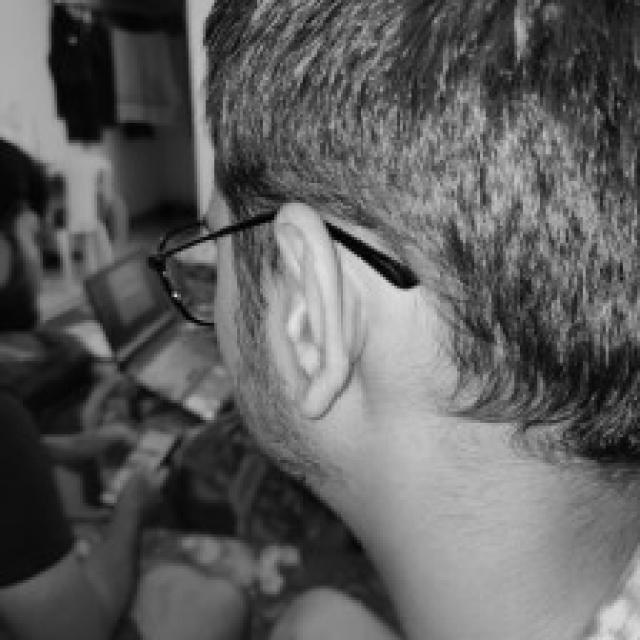ear: (271, 200, 351, 417)
